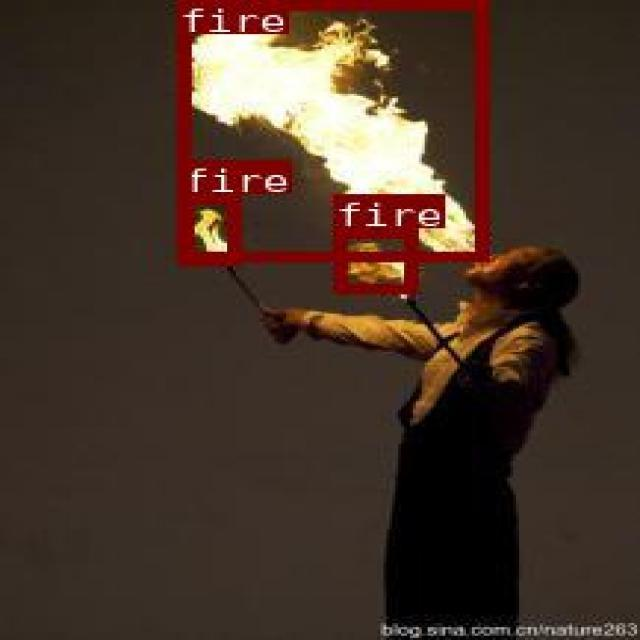fire: (176, 0, 485, 258), (333, 227, 413, 291), (179, 193, 236, 263)
